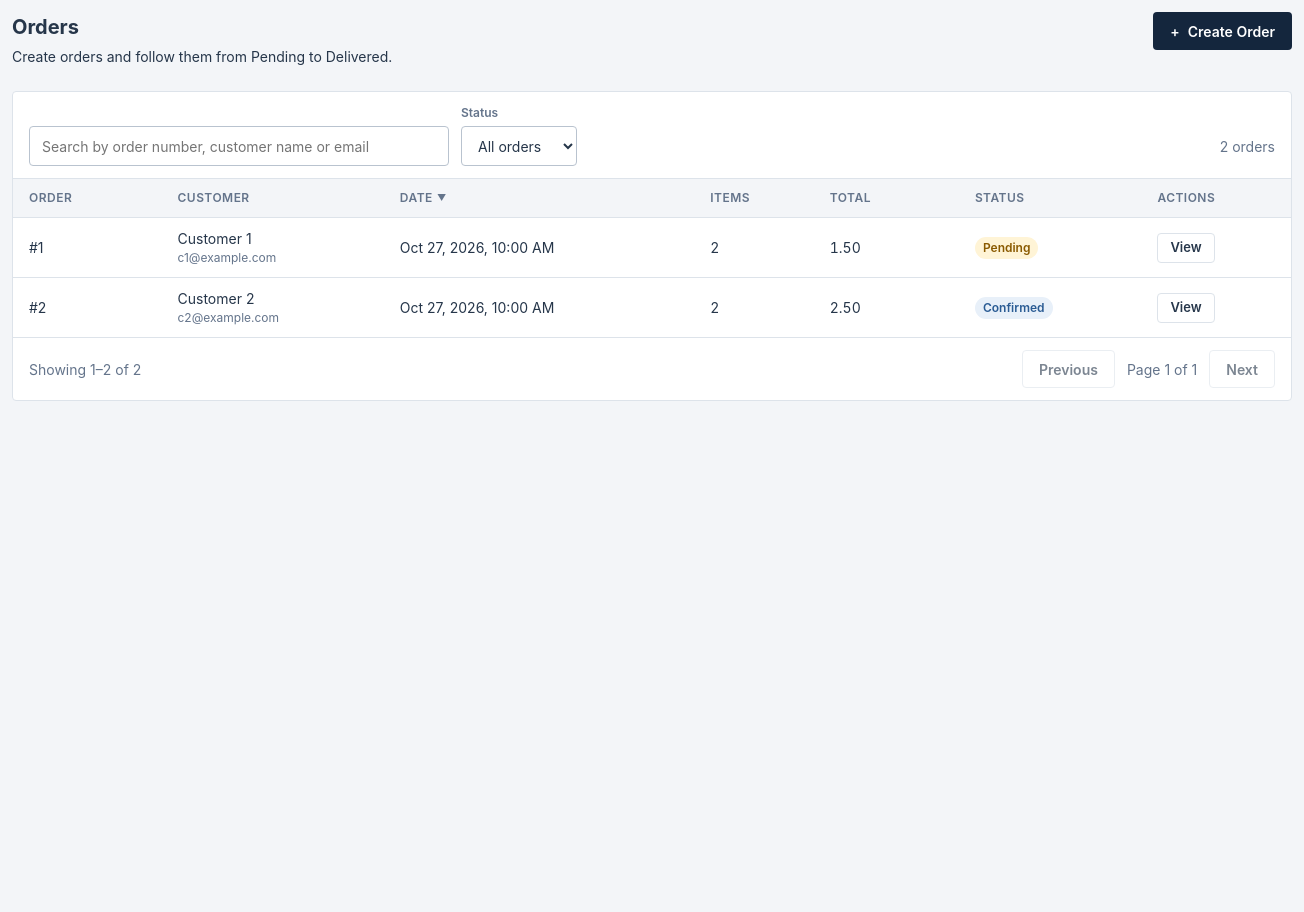
Test: order details › View opens the details panel for that order
Expected: the text "Customer 1" is shown, [178,230,252,247]
Click the button with aria-label "View order #2".
click(1186, 308)  # box [1157,292,1215,322]
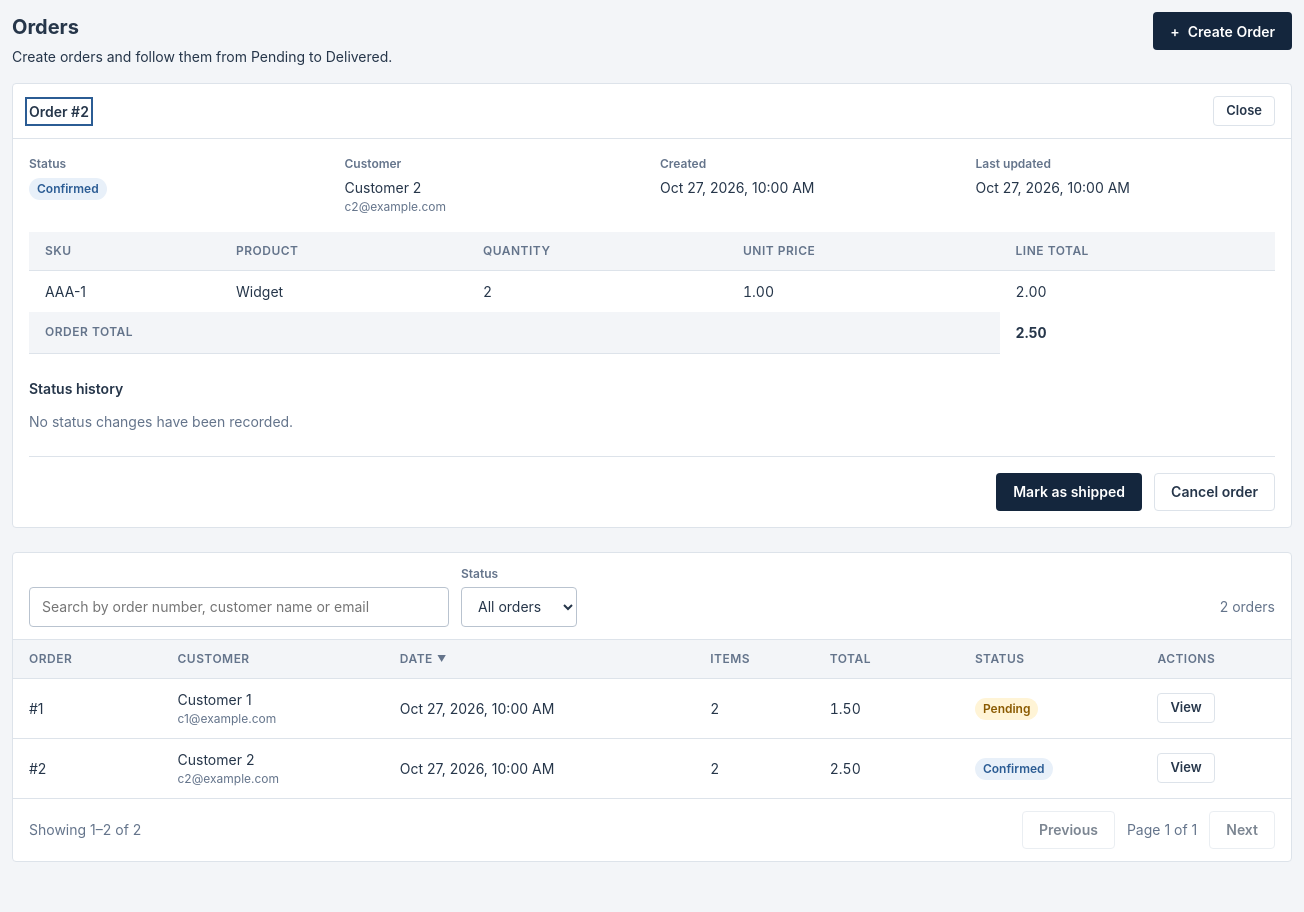
Expected: the heading "Order #2" is shown, [29,100,89,122]
Expected: the text "Widget" is shown, [220,271,467,312]
Expected: the button "Mark as shipped" is shown, [996,472,1142,510]
